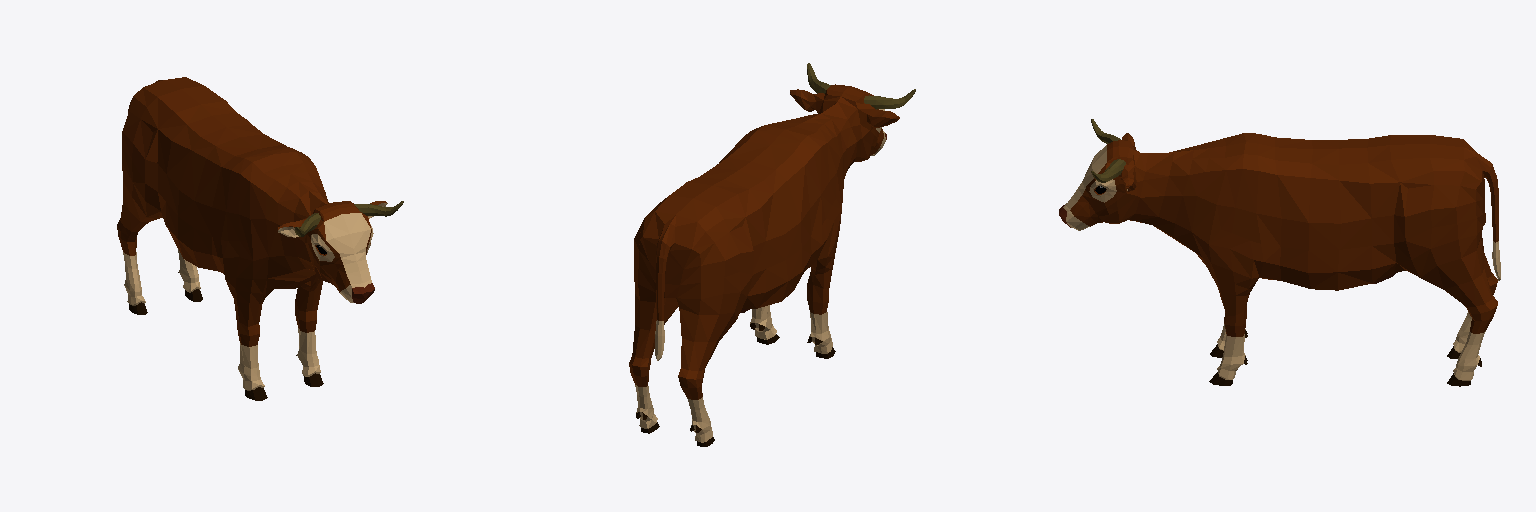
File: Cow.obj
The picture shows the model from 3 angles: view 1: azimuth 30°, elevation 25°; view 2: azimuth 150°, elevation 25°; view 3: azimuth 270°, elevation 25°; orthographic projection.
Parts seen in each view (by area): view 1: Cow_Cube; view 2: Cow_Cube; view 3: Cow_Cube.
Boxes of the visible parts, x1,y1,x2,y2 form: Cow_Cube: [117, 77, 403, 400]; Cow_Cube: [629, 63, 915, 446]; Cow_Cube: [1059, 119, 1500, 386].
Bounding box in the file's own units: 2.31 × 4.59 × 8.07.